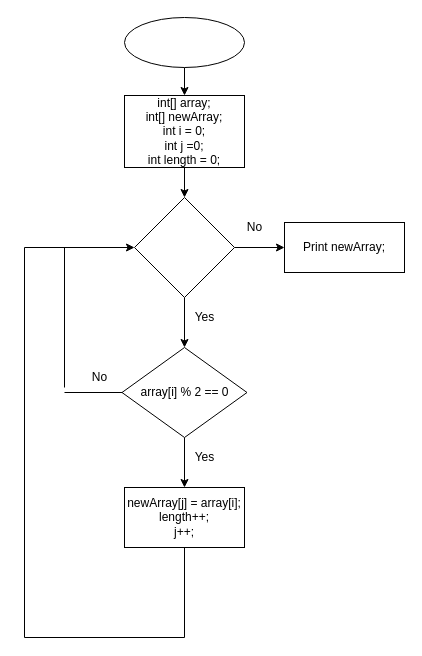
Some shapes in this 422 by 656 pixel diagram are drawn without their labels. The shapes that lost their labels are listed below. From the top down, each one's centre as x and y in pixels, then its label:
(x=184, y=42): Start
(x=184, y=247): i < array.Length
